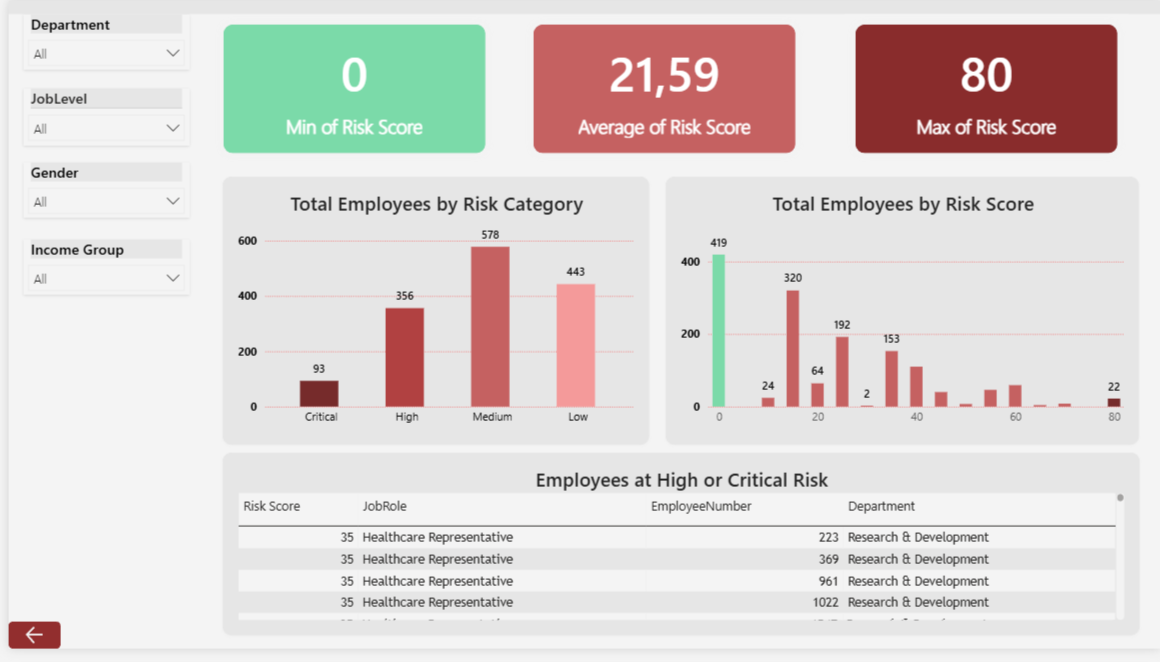

What the dashboard file says about the page in this screenshot:
{"tool":"powerbi","page":{"name":"Risk Profile","canvas":[1280,720],"ordinal":4},"visuals":[{"type":"shape","box":[0,0,1280,15],"z":0},{"type":"columnChart","title":"Total Employees by Risk Score","fields":{"Category":["HR-Employee-Attrition.Risk Score"],"Y":["HR-Employee-Attrition.Total Employees"]},"box":[730,195,526.2,297.5],"z":1000},{"type":"slicer","fields":{"Values":["HR-Employee-Attrition.JobLevel"]},"box":[16.2,97.5,183.8,62.5],"z":2000},{"type":"slicer","fields":{"Values":["HR-Employee-Attrition.Department"]},"box":[16.2,15,183.8,61.2],"z":3000},{"type":"actionButton","box":[0,690,57.8,30],"z":4000},{"type":"cardVisual","title":"Total Emplo","fields":{"Data":["Min(HR-Employee-Attrition.Risk Score)"]},"box":[227.5,15,313.8,165],"z":5000},{"type":"cardVisual","title":"Total Emplo","fields":{"Data":["Max(HR-Employee-Attrition.Risk Score)"]},"box":[930,15,313.8,165],"z":6000},{"type":"cardVisual","title":"Total Emplo","fields":{"Data":["Avg(HR-Employee-Attrition.Risk Score)"]},"box":[572.5,15,313.8,165],"z":7000},{"type":"clusteredColumnChart","title":"Total Employees by Risk Category","fields":{"Category":["HR-Employee-Attrition.Risk Category"],"Y":["HR-Employee-Attrition.Total Employees"]},"box":[237.5,195,473.8,297.5],"z":8000},{"type":"slicer","fields":{"Values":["HR-Employee-Attrition.Gender"]},"box":[16.2,180,183.8,61.2],"z":8001},{"type":"slicer","fields":{"Values":["HR-Employee-Attrition.Income Group"]},"box":[16.2,265,183.8,61.2],"z":8002},{"type":"tableEx","title":"Employees at High or Critical Risk","fields":{"Values":["HR-Employee-Attrition.Risk Score","HR-Employee-Attrition.JobRole","HR-Employee-Attrition.EmployeeNumber","HR-Employee-Attrition.Department"]},"box":[237.5,502.5,1018.8,202.5],"z":8003}]}

Visuals, with their boxes in screenshot pixels (x1, y1, x2, y2), scaled from the page's 1280x720 canvas onto the 1160x662 screenshot:
shape: (x1=0, y1=0, x2=1159, y2=14)
"Total Employees by Risk Score" columnChart: (x1=662, y1=179, x2=1138, y2=453)
slicer - HR-Employee-Attrition.JobLevel: (x1=15, y1=90, x2=181, y2=147)
slicer - HR-Employee-Attrition.Department: (x1=15, y1=14, x2=181, y2=70)
actionButton: (x1=0, y1=634, x2=52, y2=661)
"Total Emplo" cardVisual: (x1=206, y1=14, x2=491, y2=166)
"Total Emplo" cardVisual: (x1=843, y1=14, x2=1127, y2=166)
"Total Emplo" cardVisual: (x1=519, y1=14, x2=803, y2=166)
"Total Employees by Risk Category" clusteredColumnChart: (x1=215, y1=179, x2=645, y2=453)
slicer - HR-Employee-Attrition.Gender: (x1=15, y1=166, x2=181, y2=222)
slicer - HR-Employee-Attrition.Income Group: (x1=15, y1=244, x2=181, y2=300)
"Employees at High or Critical Risk" tableEx: (x1=215, y1=462, x2=1139, y2=648)
